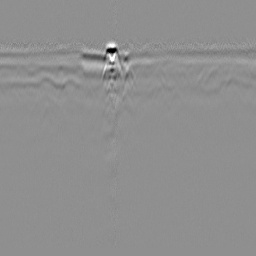cavity: (120, 64, 139, 92)
